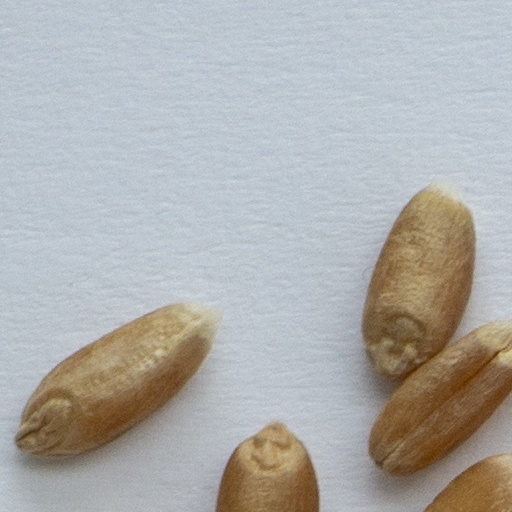Wheat-grain-poly: (15, 304, 219, 456)
